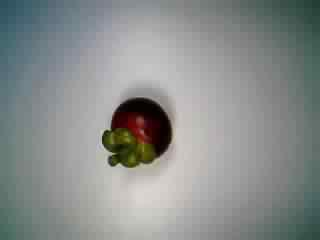mangosteen: (97, 95, 174, 169)
